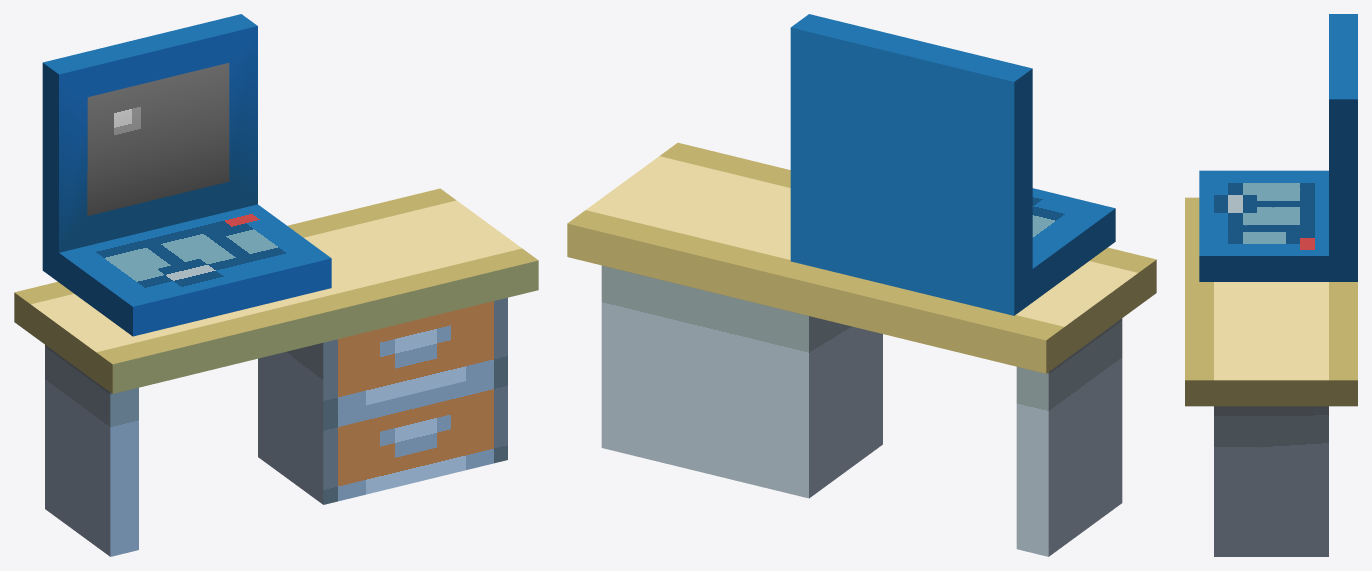
The picture shows the model from 3 angles, left to right: view 1: azimuth 30°, elevation 25°; view 2: azimuth 150°, elevation 25°; view 3: azimuth 270°, elevation 25°; orthographic projection. The views are drawn at different scales.
Visible parts, largest first — view 1: table_l01; view 2: table_l01; view 3: table_l01.
Boxes of the visible parts, <box> form: table_l01: <box>14,14,538,556</box>; table_l01: <box>567,14,1156,556</box>; table_l01: <box>1185,14,1357,556</box>.
Bounding box in the file's own units: 1.88 × 1.81 × 0.75.
Materials: 2 (2 with a texture image).
